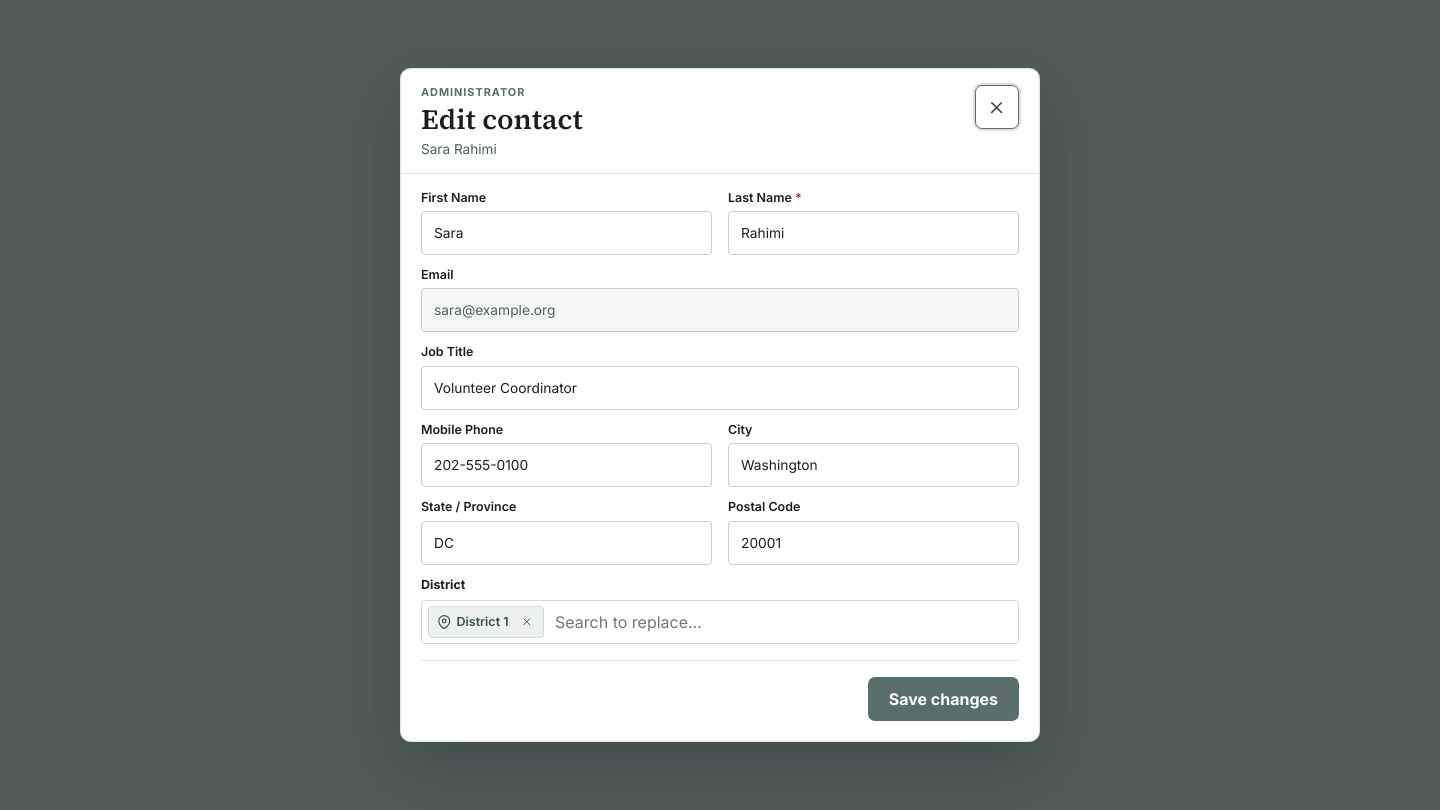
Test case: AdminContactEditModal › searches, replaces, and clears the District selection
In the dropdown labelled "District": (780, 622) [549, 605, 1012, 639], type "District 2"
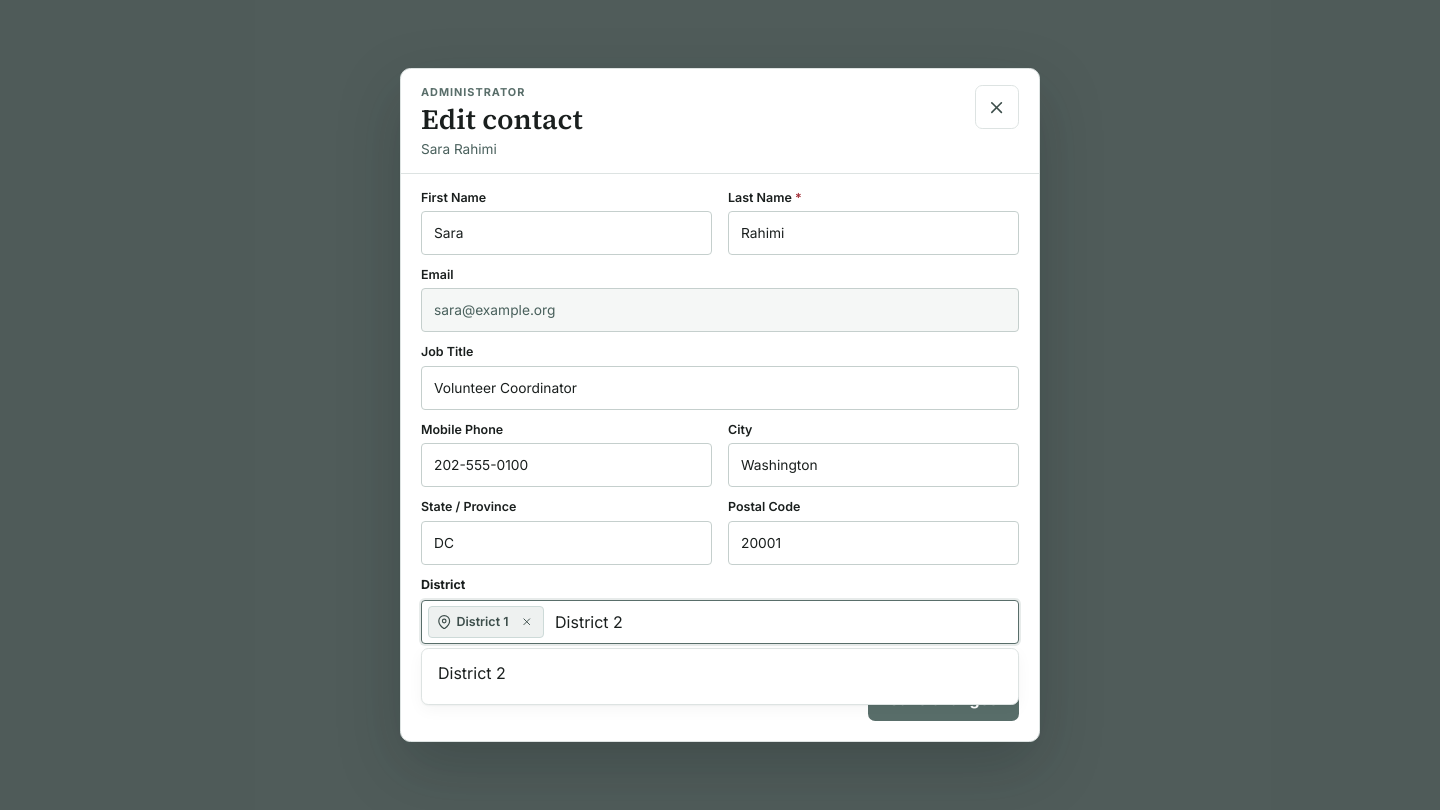
Check: the option "District 2" is shown
Click the option "District 2": (472, 673) [428, 654, 1012, 698]
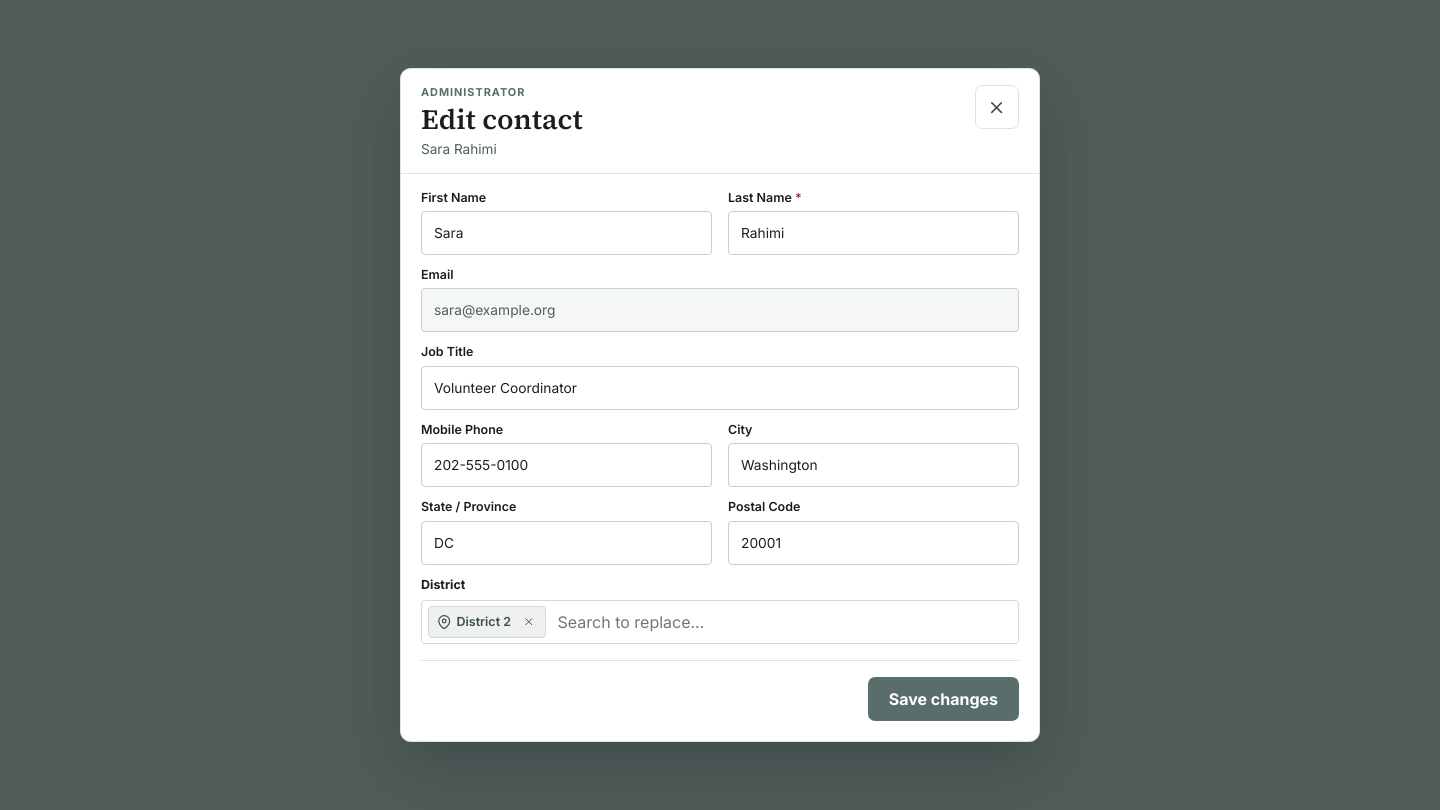
Check: the text "District 2" is shown, box [457, 614, 511, 629]
Click the button named "Clear District": (529, 622) [516, 610, 541, 634]
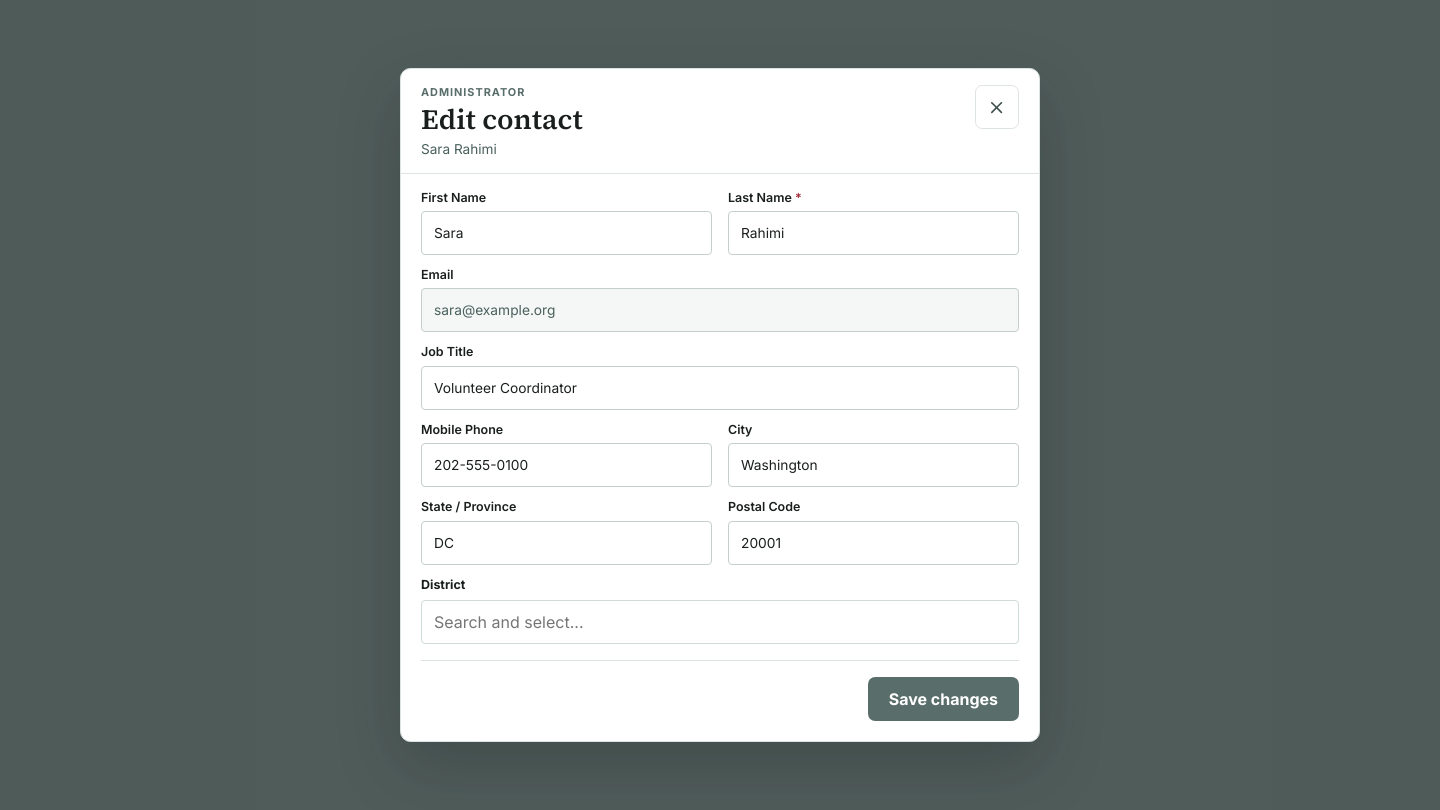
Check: the text "District 2" is gone
